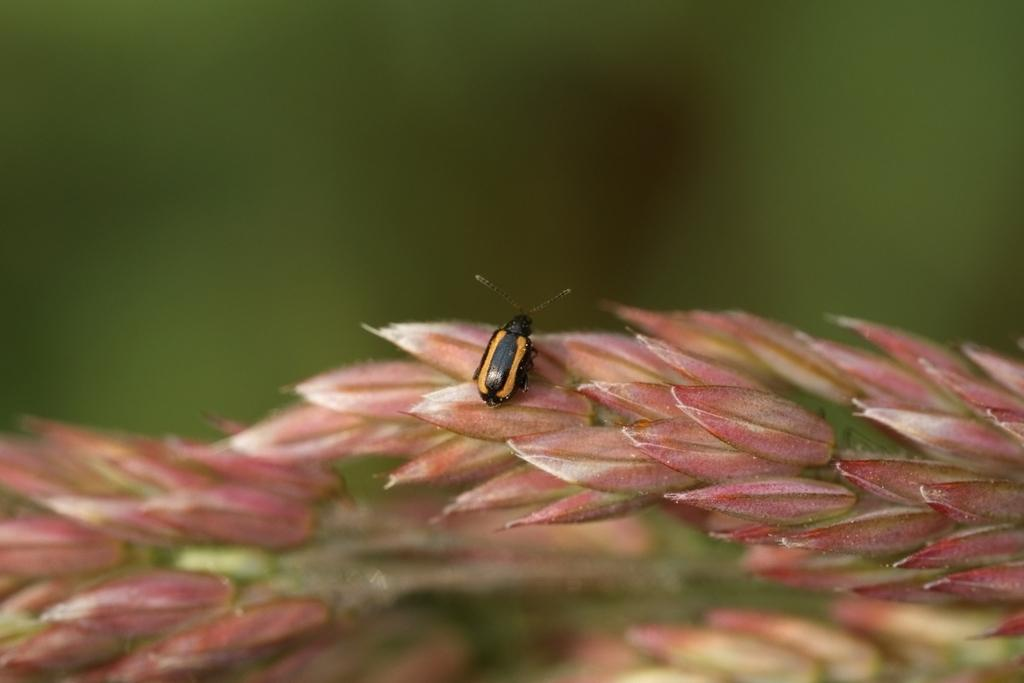flea_beetle: (438, 251, 580, 439)
